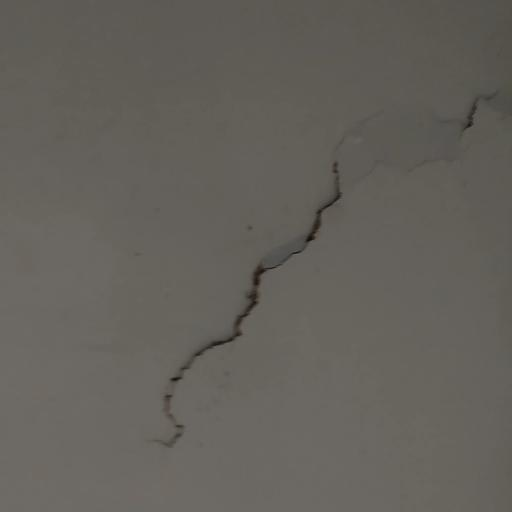major_crack: (141, 62, 511, 458)
